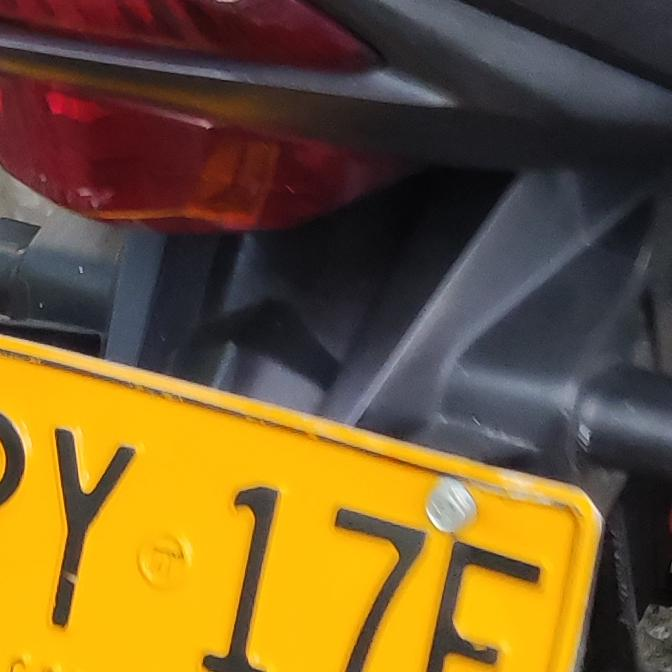plates: (0, 338, 584, 672)
